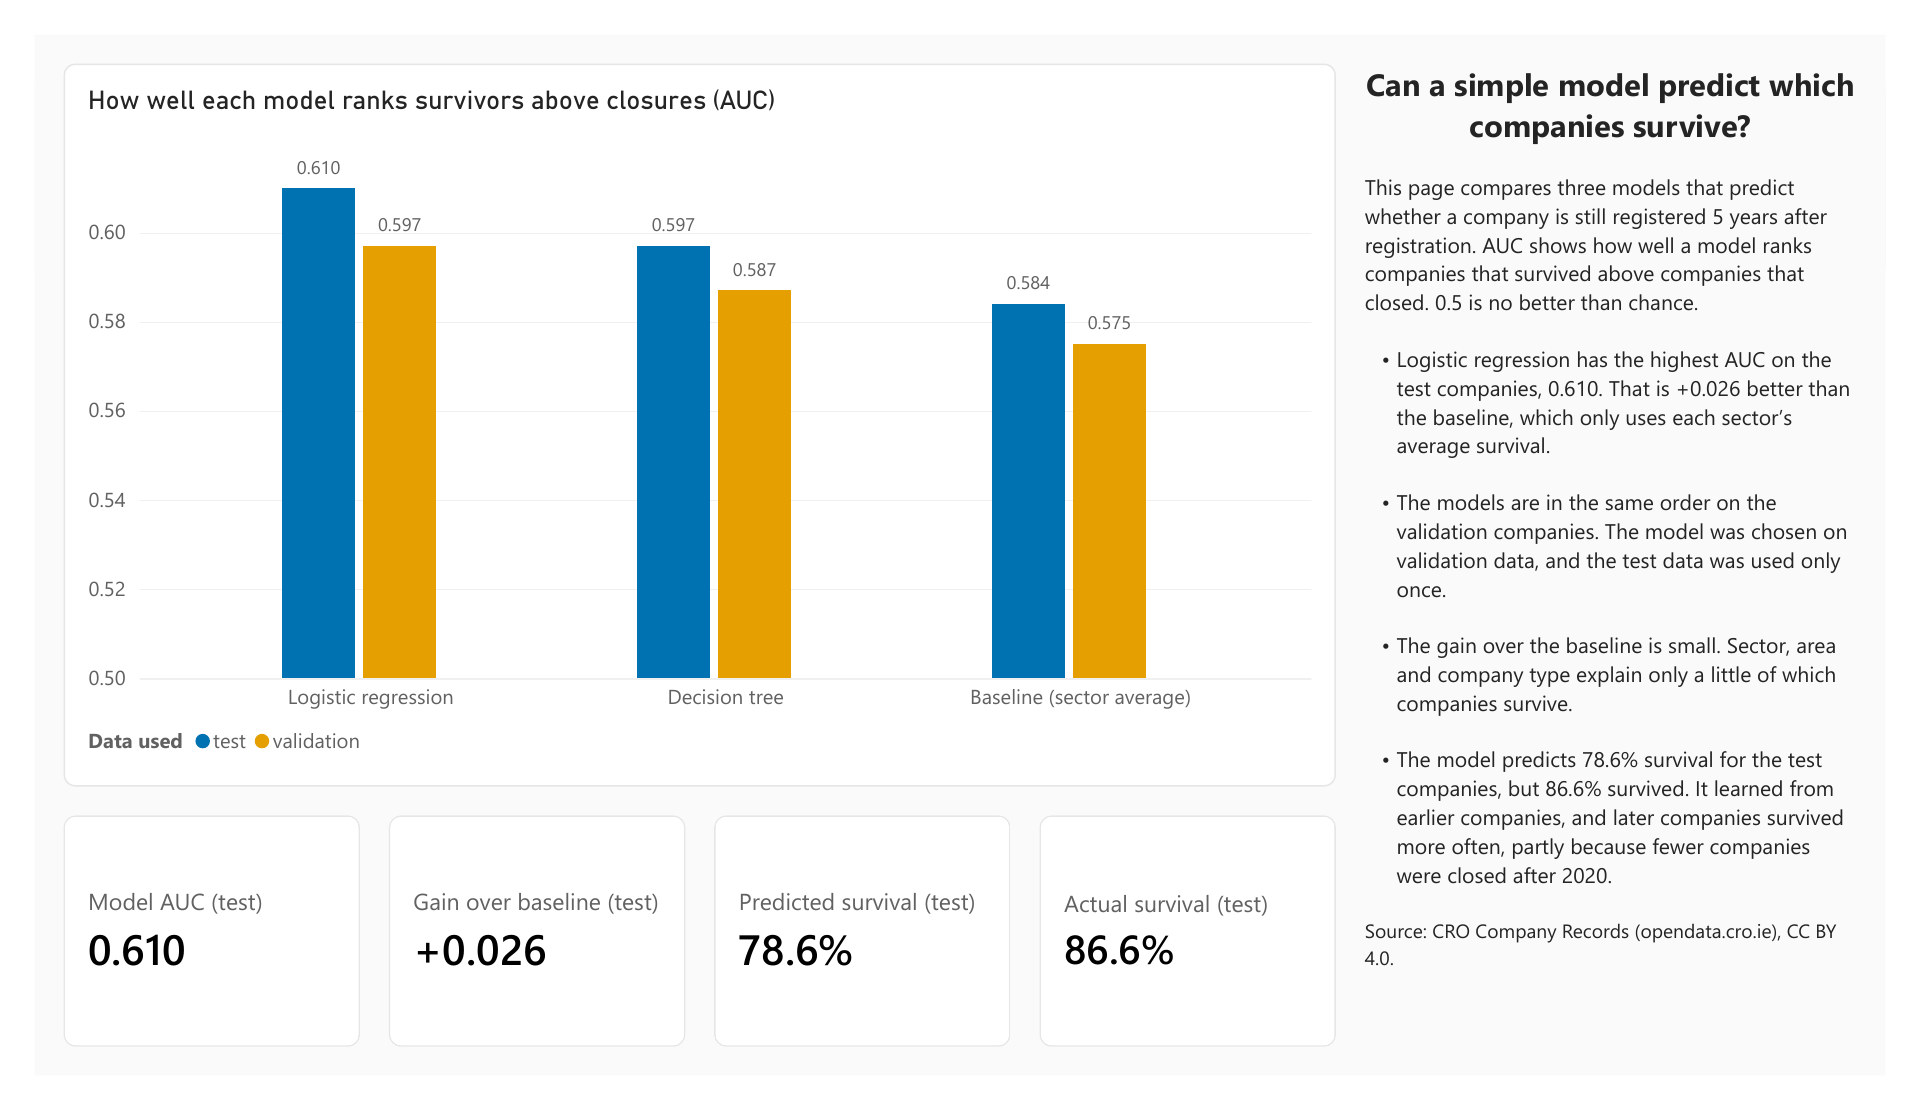

What the dashboard file says about the page in this screenshot:
{"tool":"powerbi","page":{"name":"Model","canvas":[1280,720],"ordinal":4},"visuals":[{"type":"cardVisual","fields":{"Data":["model_results.Test AUC (label)"]},"box":[20,540,205,160],"z":0},{"type":"cardVisual","fields":{"Data":["model_results.Test AUC gain (label)"]},"box":[245,540,205,160],"z":1000},{"type":"cardVisual","fields":{"Data":["model_results.Test predicted survival (label)"]},"box":[470,540,205,160],"z":2000},{"type":"cardVisual","fields":{"Data":["model_results.Test actual survival (label)"]},"box":[695,540,205,160],"z":3000},{"type":"textbox","box":[919.7,20.2,340.6,679.9],"z":4000},{"type":"clusteredColumnChart","title":"How well each model ranks survivors above closures (AUC)","fields":{"Category":["model_results.model"],"Series":["model_results.set"],"Y":["model_results.AUC(new)"]},"box":[20,20,880,500],"z":4001}]}

Visuals, with their boxes in screenshot pixels (x1, y1, x2, y2), scaled from the page's 1280x720 canvas onto the 1920x1111 screenshot:
cardVisual - model_results.Test AUC (label): (left=30, top=833, right=338, bottom=1080)
cardVisual - model_results.Test AUC gain (label): (left=368, top=833, right=675, bottom=1080)
cardVisual - model_results.Test predicted survival (label): (left=705, top=833, right=1012, bottom=1080)
cardVisual - model_results.Test actual survival (label): (left=1042, top=833, right=1350, bottom=1080)
textbox: (left=1380, top=31, right=1890, bottom=1080)
"How well each model ranks survivors above closures (AUC)" clusteredColumnChart: (left=30, top=31, right=1350, bottom=802)
